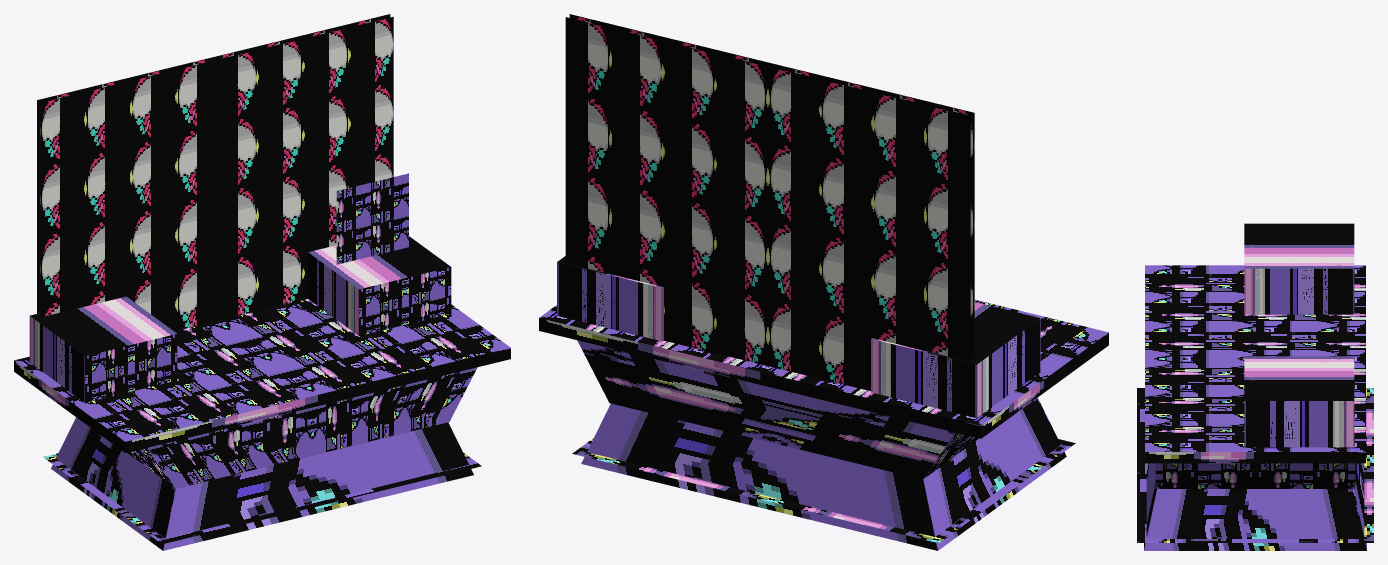
3 views of the same model, side by side, from view 1: azimuth 30°, elevation 25°; view 2: azimuth 150°, elevation 25°; view 3: azimuth 270°, elevation 25° (orthographic). The views are drawn at different scales.
Parts seen in each view (by area): view 1: 3508kg_sh2_22; view 2: 3508kg_sh2_22; view 3: 3508kg_sh2_22.
Boxes of the visible parts, x1,y1,x2,y2 form: 3508kg_sh2_22: [14, 14, 510, 550]; 3508kg_sh2_22: [539, 14, 1108, 550]; 3508kg_sh2_22: [1137, 223, 1373, 550].
Size of the model in its own units: 1.88 by 1.77 by 1.01.
2 materials, 2 textured.
